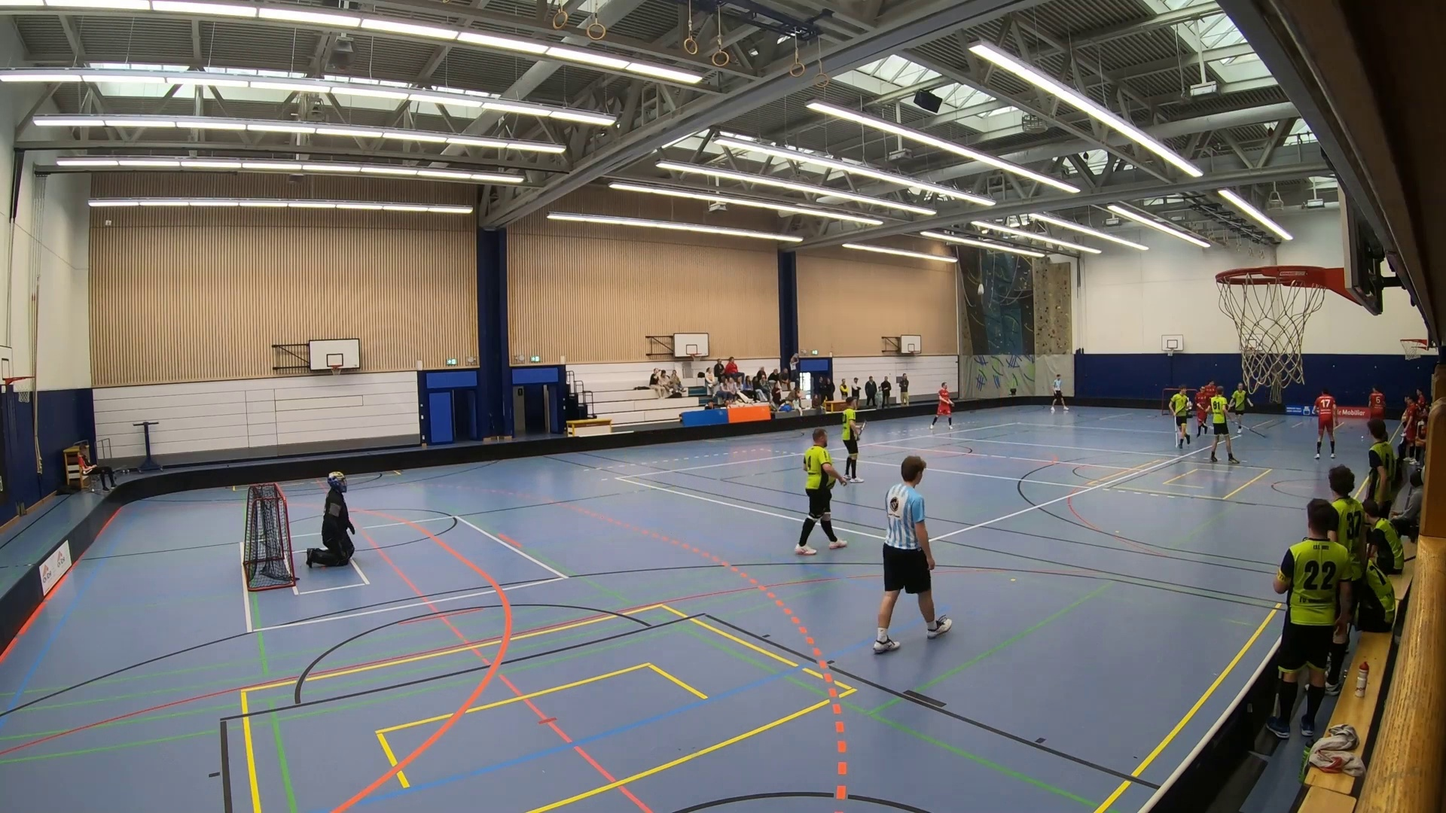Schiri: (866, 452, 971, 665), (1040, 361, 1072, 425)
ball: (1361, 435, 1364, 440)
goalkeeper: (306, 471, 355, 567), (1185, 397, 1194, 419)
player: (766, 413, 855, 565), (1209, 385, 1274, 466), (833, 388, 870, 483), (926, 373, 976, 435), (1309, 387, 1339, 463), (1162, 384, 1192, 448), (1224, 377, 1254, 435), (1363, 383, 1387, 425), (1194, 385, 1210, 438), (1204, 377, 1215, 403)
